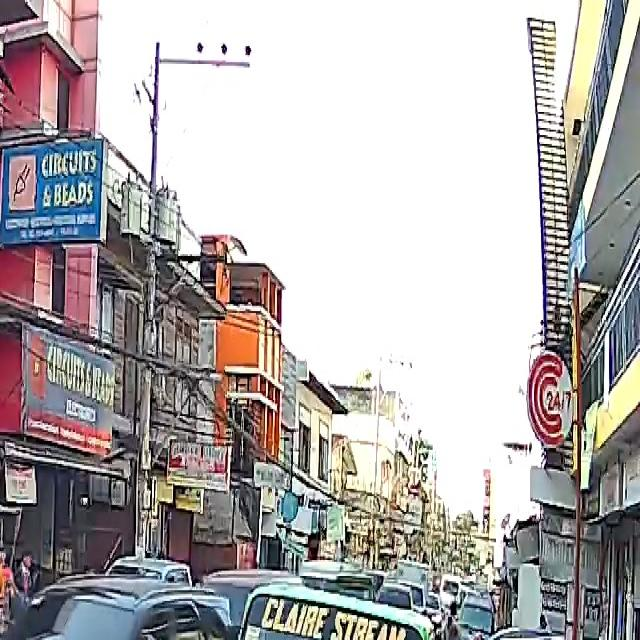car: (0, 583, 238, 640), (474, 622, 640, 640), (106, 555, 192, 583)
